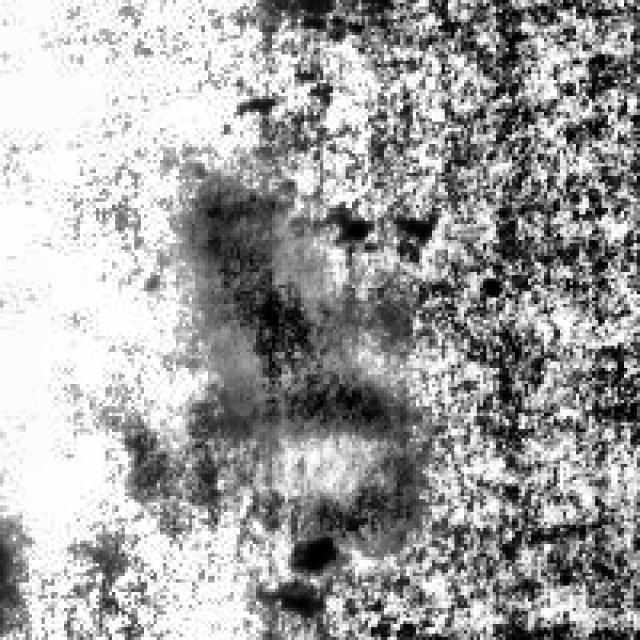Scratches: (188, 186, 394, 442)
